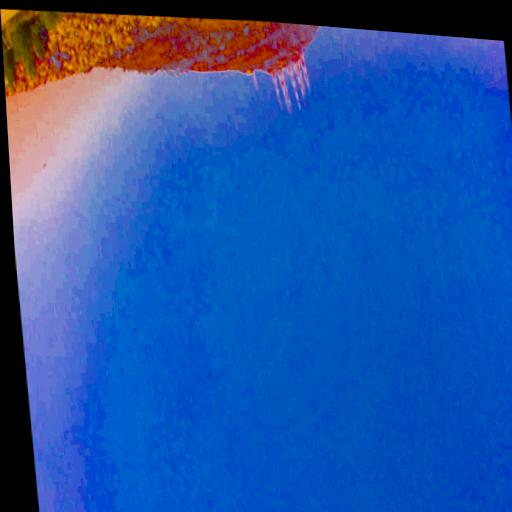drones: (40, 160, 47, 170)
